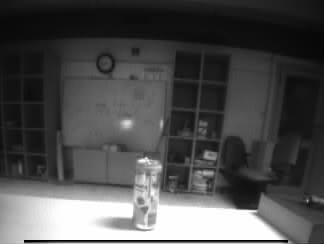Tin can: (133, 157, 158, 229)
